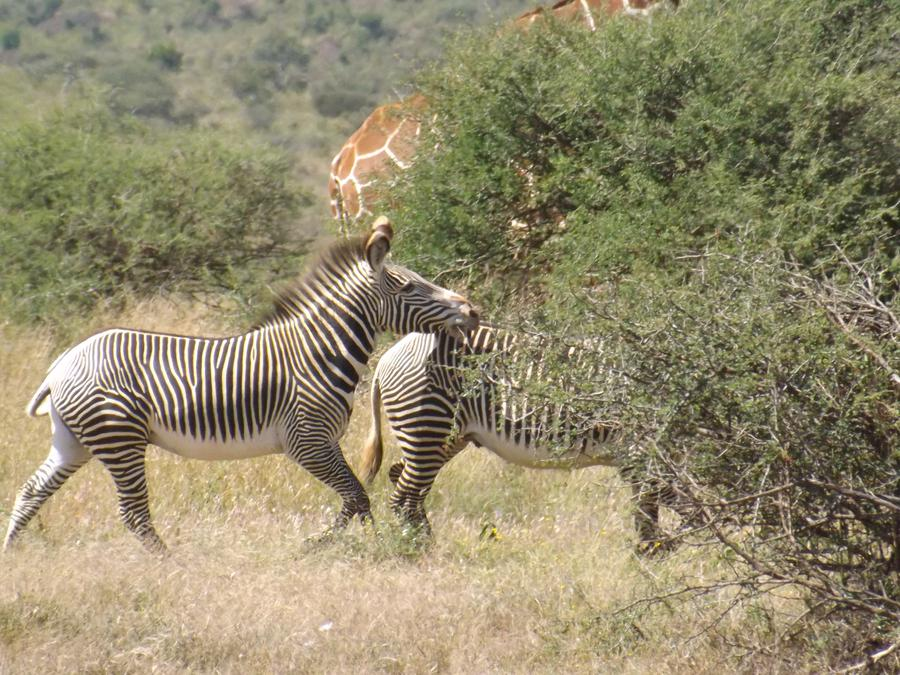zebra_grevys: (31, 306, 341, 438)
